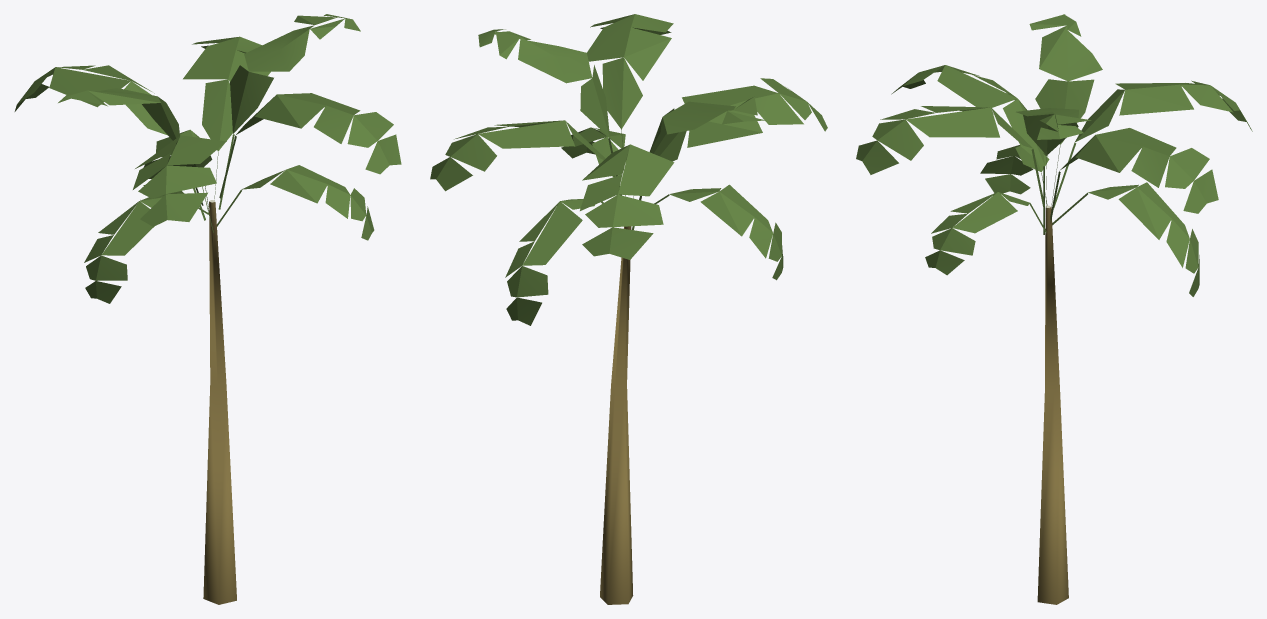
The model's file is palmTreeLoPoly.obj.
The picture shows the model from 3 angles, left to right: view 1: azimuth 30°, elevation 25°; view 2: azimuth 150°, elevation 25°; view 3: azimuth 270°, elevation 25°; orthographic projection. The views are drawn at different scales.
Parts seen in each view (by area): view 1: Mesh61 trunk1 Model, Mesh57 crown1 Model, Mesh58 crown1 Model, Mesh47 crown1 Model, Mesh40 crown1 Model, Mesh56 crown1 Model, Mesh24 crown1 Model, Mesh39 crown1 Model, Mesh41 crown1 Model, Mesh4 leaf1 crown1 Model, Mesh52 crown1 Model, Mesh32 crown1 Model (+10 smaller); view 2: Mesh61 trunk1 Model, Mesh57 crown1 Model, Mesh31 crown1 Model, Mesh56 crown1 Model, Mesh22 crown1 Model, Mesh24 crown1 Model, Mesh11 leaf2 crown1 Model, Mesh30 crown1 Model, Mesh39 crown1 Model, Mesh23 crown1 Model, Mesh27 crown1 Model, Mesh49 crown1 Model (+14 smaller); view 3: Mesh61 trunk1 Model, Mesh27 crown1 Model, Mesh49 crown1 Model, Mesh44 crown1 Model, Mesh52 crown1 Model, Mesh28 crown1 Model, Mesh33 crown1 Model, Mesh32 crown1 Model, Mesh9 leaf2 crown1 Model, Mesh37 crown1 Model, Mesh18 leaf3 crown1 Model, Mesh36 crown1 Model (+12 smaller).
Boxes of the visible parts, x1,y1,x2,y2 form: Mesh61 trunk1 Model: [203, 200, 236, 604]; Mesh57 crown1 Model: [244, 25, 314, 71]; Mesh58 crown1 Model: [230, 65, 273, 133]; Mesh47 crown1 Model: [202, 79, 232, 151]; Mesh40 crown1 Model: [138, 165, 216, 198]; Mesh56 crown1 Model: [183, 36, 239, 79]; Mesh24 crown1 Model: [49, 67, 130, 107]; Mesh39 crown1 Model: [255, 94, 325, 128]; Mesh41 crown1 Model: [140, 192, 207, 226]; Mesh4 leaf1 crown1 Model: [101, 201, 154, 255]; Mesh52 crown1 Model: [167, 135, 226, 165]; Mesh32 crown1 Model: [347, 112, 393, 147]; Mesh61 trunk1 Model: [600, 226, 633, 604]; Mesh57 crown1 Model: [518, 37, 592, 83]; Mesh31 crown1 Model: [602, 57, 642, 129]; Mesh56 crown1 Model: [478, 120, 574, 148]; Mesh22 crown1 Model: [585, 194, 663, 227]; Mesh24 crown1 Model: [618, 144, 674, 196]; Mesh11 leaf2 crown1 Model: [522, 201, 582, 265]; Mesh30 crown1 Model: [687, 100, 762, 147]; Mesh39 crown1 Model: [624, 27, 671, 80]; Mesh23 crown1 Model: [582, 227, 653, 259]; Mesh27 crown1 Model: [662, 101, 735, 134]; Mesh49 crown1 Model: [587, 14, 634, 61]; Mesh61 trunk1 Model: [1037, 205, 1068, 604]; Mesh27 crown1 Model: [1039, 25, 1102, 81]; Mesh49 crown1 Model: [906, 107, 999, 137]; Mesh44 crown1 Model: [1119, 84, 1193, 115]; Mesh52 crown1 Model: [937, 65, 1017, 107]; Mesh28 crown1 Model: [1035, 79, 1094, 144]; Mesh33 crown1 Model: [1075, 135, 1142, 172]; Mesh32 crown1 Model: [872, 119, 923, 160]; Mesh9 leaf2 crown1 Model: [1118, 187, 1171, 239]; Mesh37 crown1 Model: [1165, 148, 1209, 188]; Mesh18 leaf3 crown1 Model: [952, 192, 1017, 233]; Mesh36 crown1 Model: [1131, 146, 1169, 187].
Bounding box in the file's own units: 210 × 374 × 254.
